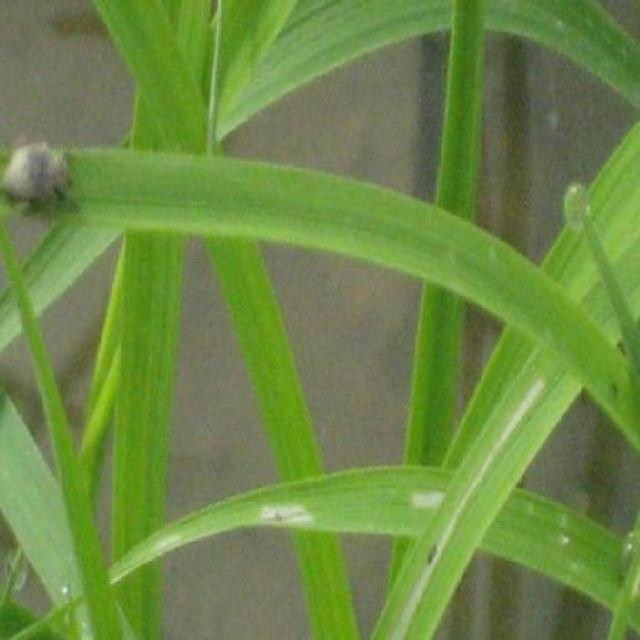rice-bug: (5, 141, 76, 214)
